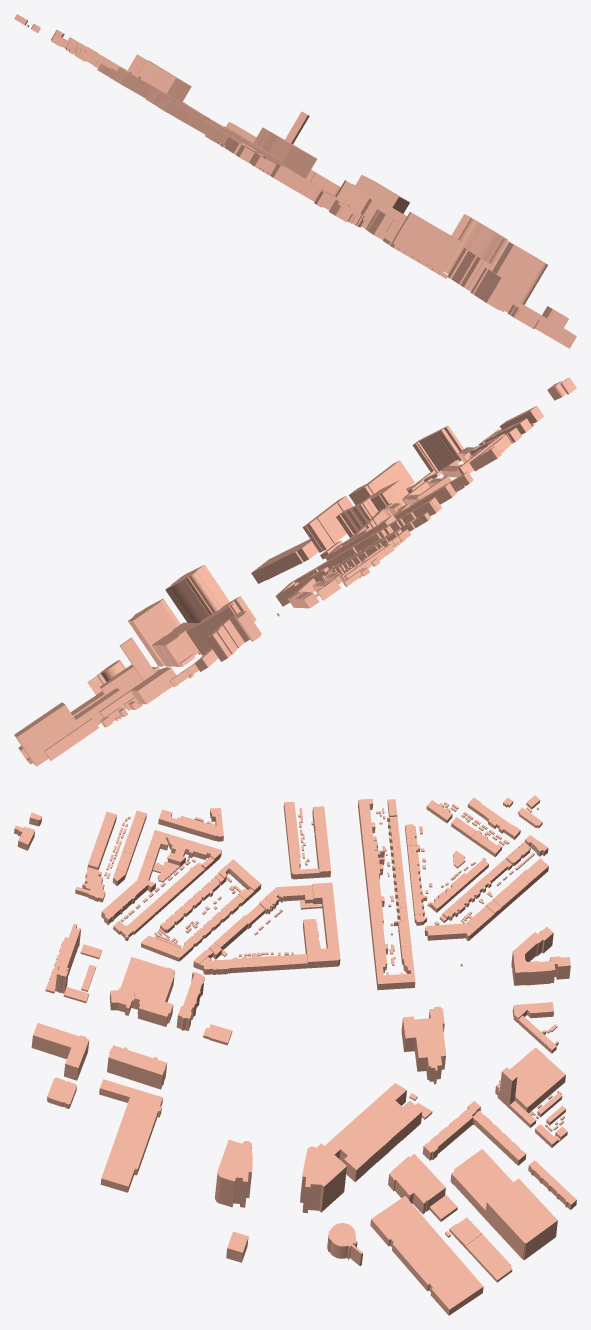
3 renders of one model, top to bottom at view 1: azimuth 30°, elevation 25°; view 2: azimuth 150°, elevation 25°; view 3: azimuth 270°, elevation 25°, orthographic. The views are drawn at different scales.
Size of the model in its own units: 539 by 418 by 644.
